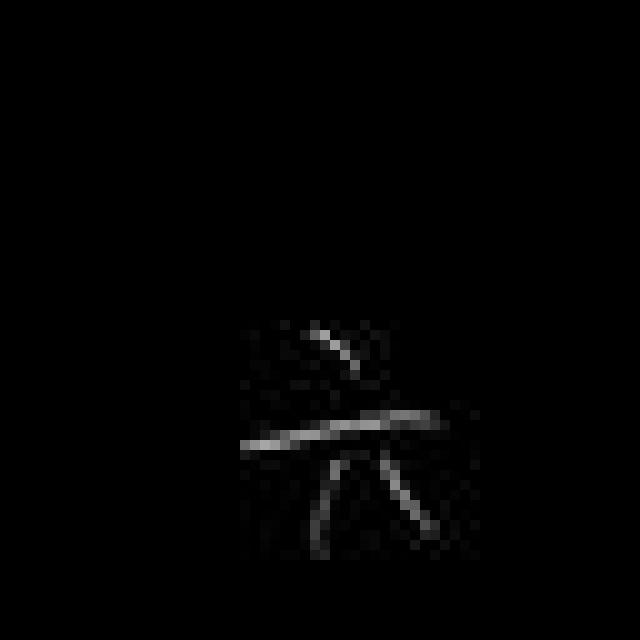6 -six-: (225, 314, 448, 557)
